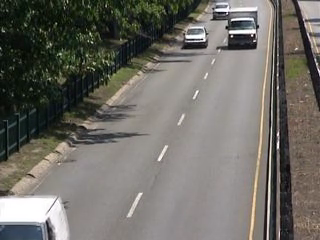car: (182, 24, 210, 50), (213, 2, 232, 21)
truck: (1, 191, 72, 240), (226, 8, 261, 50)
